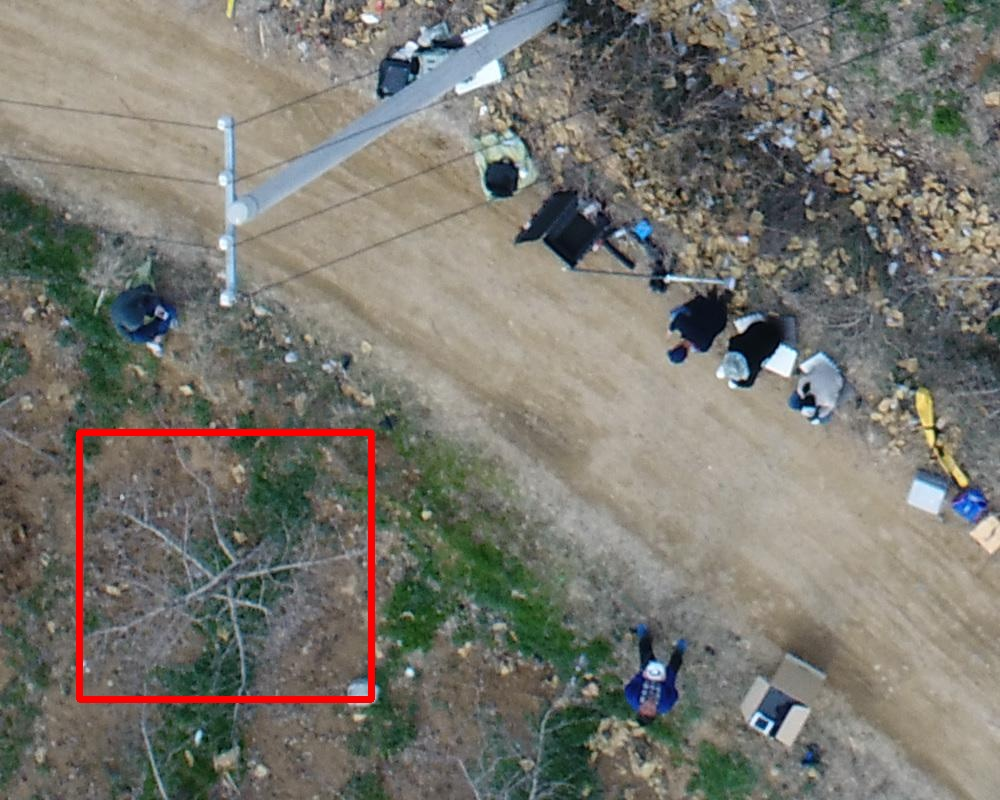apple: (79, 432, 371, 699)
